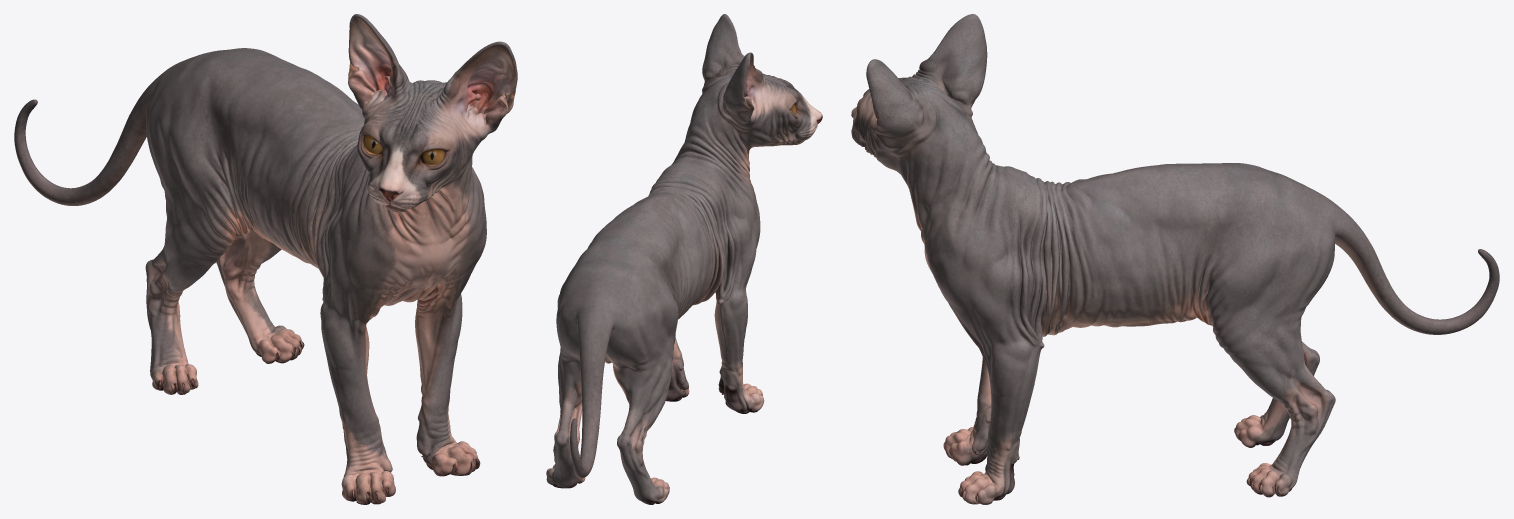
File: bicolor-sphynx-cat.glb
The picture shows the model from 3 angles, left to right: view 1: azimuth 30°, elevation 25°; view 2: azimuth 150°, elevation 25°; view 3: azimuth 270°, elevation 25°; orthographic projection. The views are drawn at different scales.
Visible parts, largest first — view 1: bicolor-sphynx-cat; view 2: bicolor-sphynx-cat; view 3: bicolor-sphynx-cat.
Boxes of the visible parts, <box> form: bicolor-sphynx-cat: <box>14,14,517,504</box>; bicolor-sphynx-cat: <box>546,14,822,504</box>; bicolor-sphynx-cat: <box>851,14,1499,504</box>.
Size of the model in its own units: 0.1469 by 0.3732 by 0.5002.
Materials: 1 (1 with a texture image).
